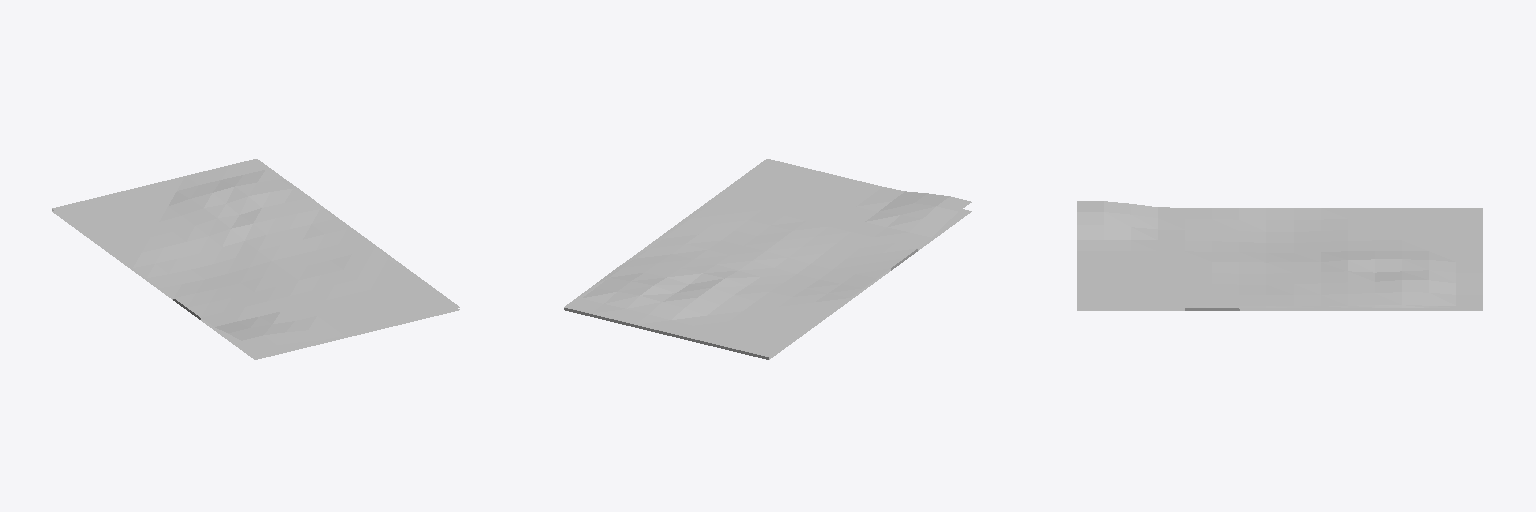
The model's file is Rasen.obj.
3 views of the same model, side by side, from view 1: azimuth 30°, elevation 25°; view 2: azimuth 150°, elevation 25°; view 3: azimuth 270°, elevation 25° (orthographic).
Visible parts, largest first — view 1: Rasen_Plane.011; view 2: Rasen_Plane.011; view 3: Rasen_Plane.011.
Part boxes in pixels (x1,y1,x2,y2): Rasen_Plane.011: (52,159,459,359); Rasen_Plane.011: (564,159,971,359); Rasen_Plane.011: (1077,201,1482,310).
Size of the model in its own units: 30.21 by 1.34 by 51.8.